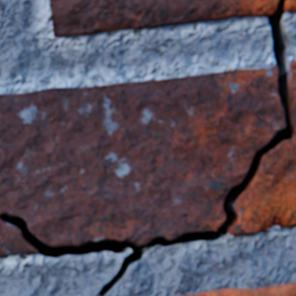brick: (182, 282, 295, 295)
broken_brick: (0, 67, 284, 246), (50, 0, 277, 37), (225, 135, 295, 235), (0, 220, 37, 255), (288, 62, 295, 133), (283, 0, 295, 12)
crack: (0, 0, 295, 295)
